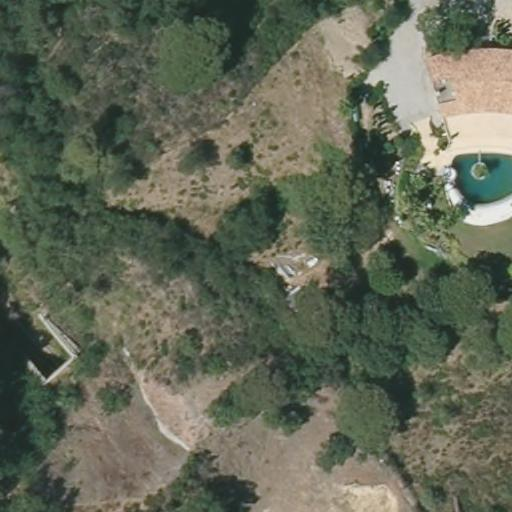pool: (445, 148, 511, 201)
